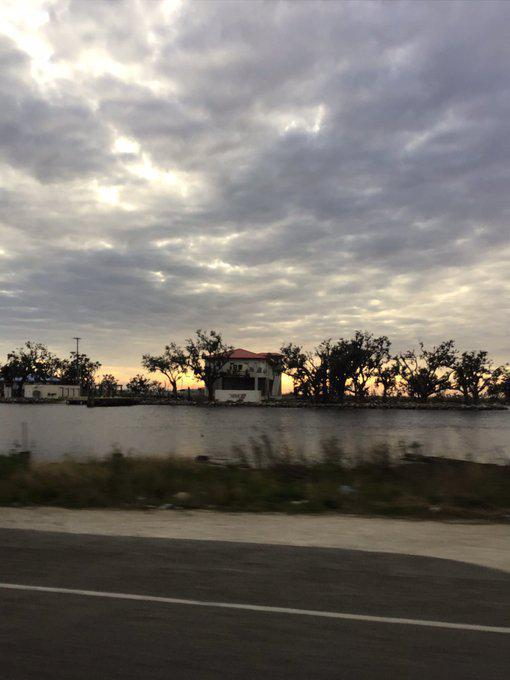affected: (190, 324, 286, 406)
